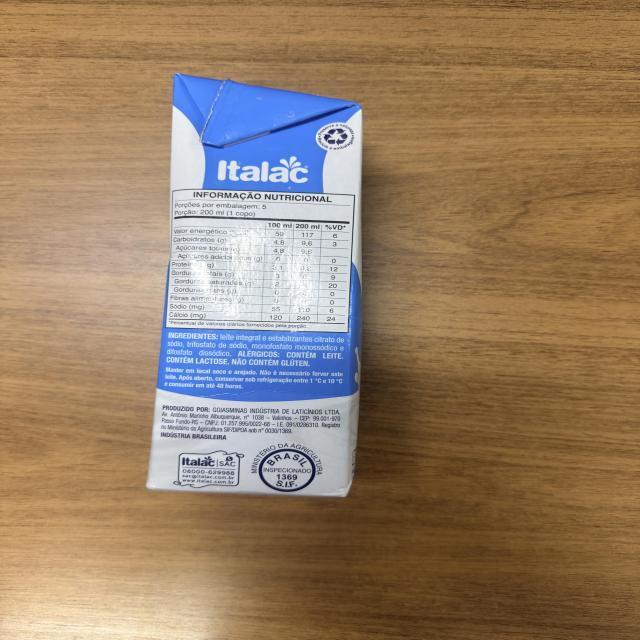Caixa de Leite: (145, 72, 370, 498)
